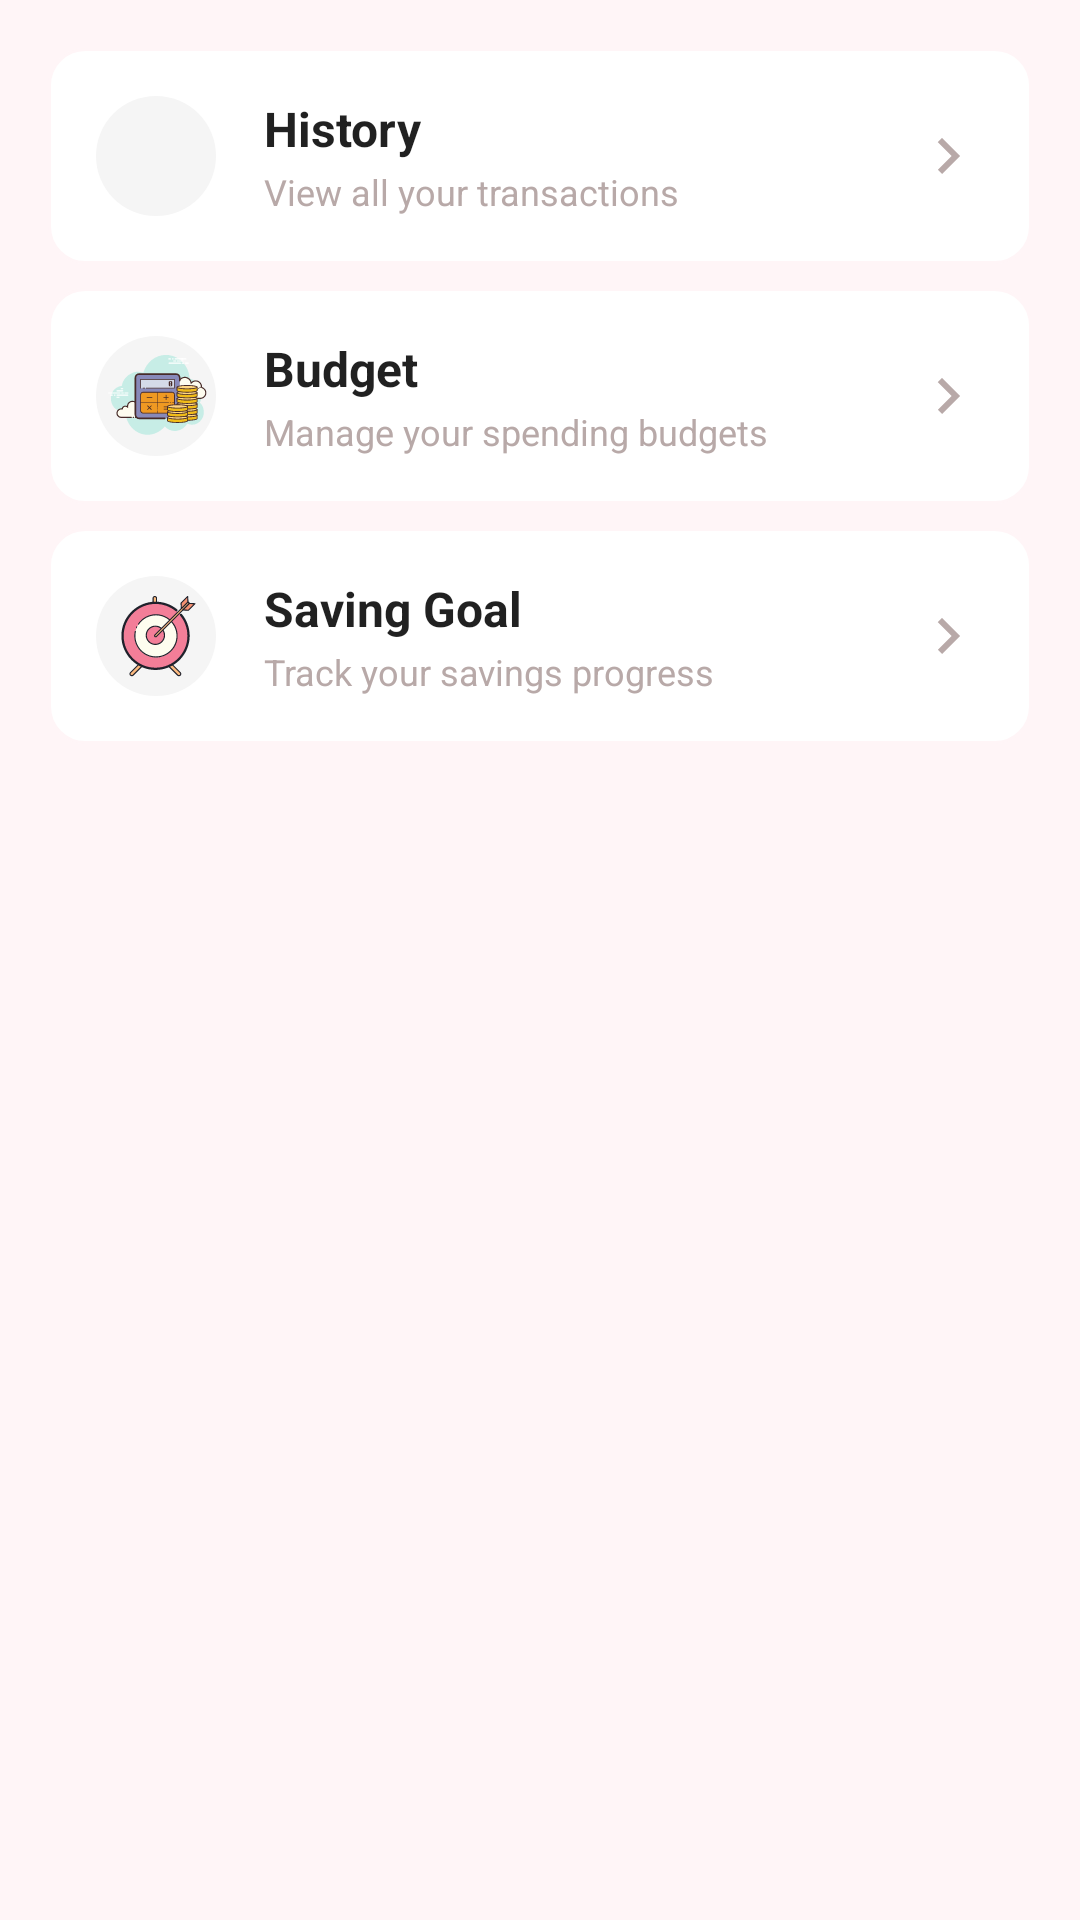

Named icons in this screenshot (1080*1920) and their bounding boxes, box(x1, y1, x2, y2):
chevron right: box(938, 138, 960, 174), box(938, 378, 960, 414), box(938, 618, 960, 654)
